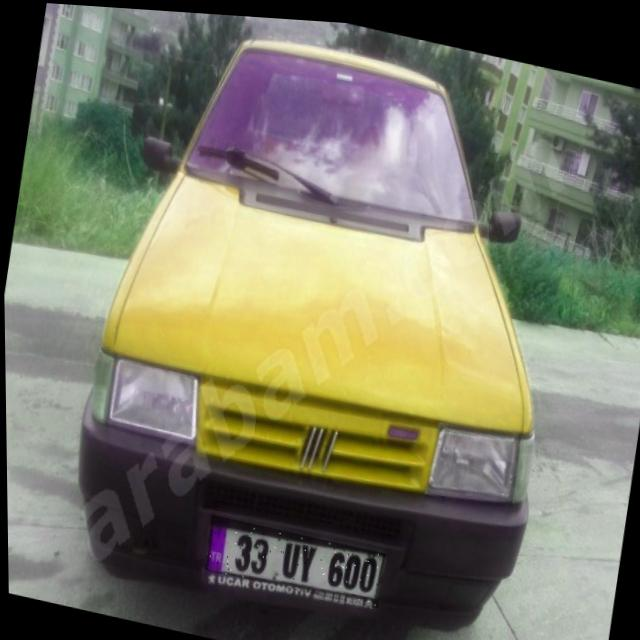license_plate: (201, 511, 385, 604)
